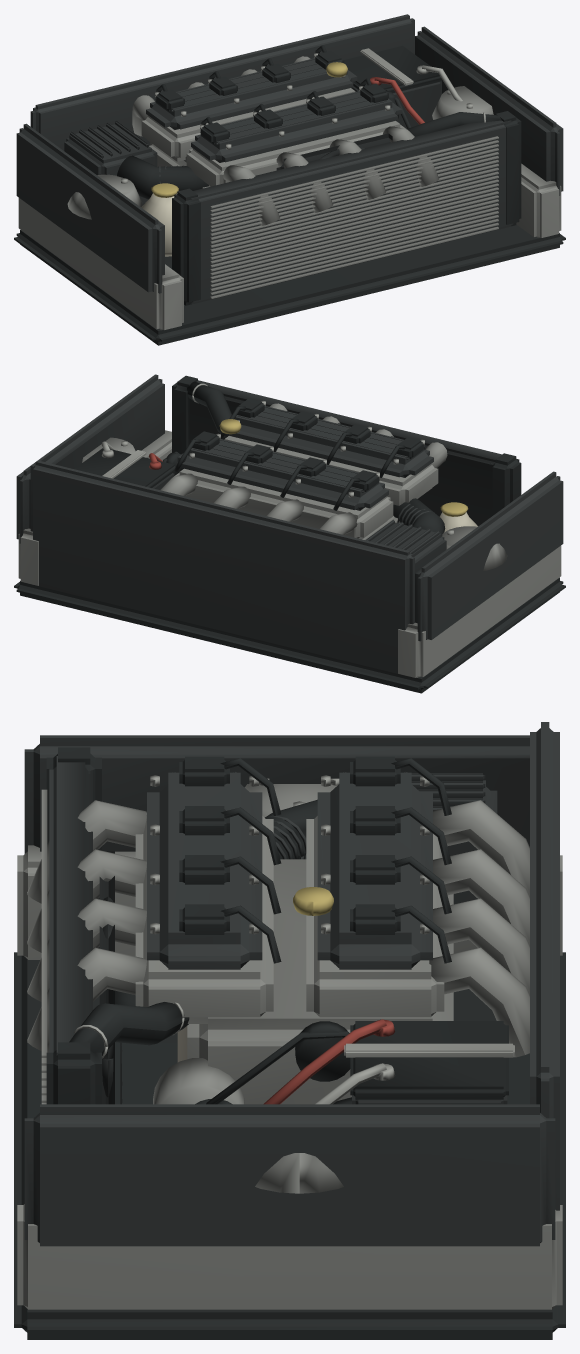
Rendered from engine-v-bank.glb.
3 renders of one model, top to bottom at view 1: azimuth 30°, elevation 25°; view 2: azimuth 150°, elevation 25°; view 3: azimuth 270°, elevation 25°, orthographic. The views are drawn at different scales.
Parts seen in each view (by area): view 1: Frame; view 2: Frame; view 3: Frame.
Part boxes in pixels (bbox=[...]): Frame: bbox=[14, 14, 565, 345]; Frame: bbox=[14, 374, 565, 693]; Frame: bbox=[14, 722, 565, 1339].
Size of the model in its own units: 1.49 by 0.537 by 0.87.
